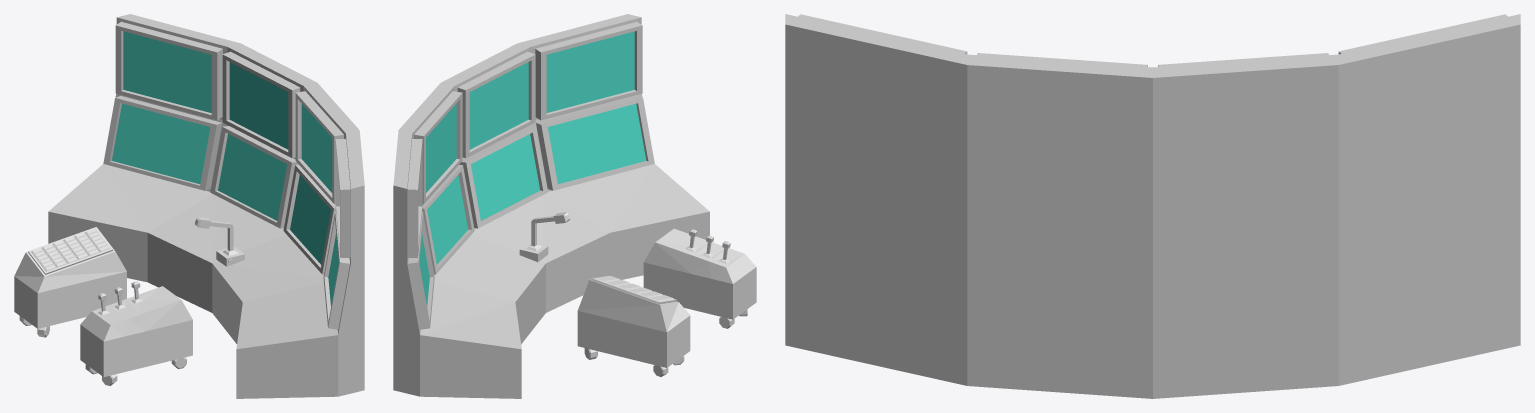
Rendered from centre de controle.dae.
3 views of the same model, side by side, from view 1: azimuth 30°, elevation 25°; view 2: azimuth 150°, elevation 25°; view 3: azimuth 270°, elevation 25° (orthographic). The views are drawn at different scales.
Parts seen in each view (by area): view 1: grosse base, 2 bloc, 1 bloc, Cube.011, 1 roues; view 2: grosse base, 2 bloc, 1 bloc, Cube.011, 2 roues; view 3: grosse base.
Part boxes in pixels (bbox=[...]): grosse base: bbox=[48, 14, 364, 398]; 2 bloc: bbox=[14, 227, 126, 328]; 1 bloc: bbox=[80, 281, 192, 376]; Cube.011: bbox=[194, 217, 244, 266]; 1 roues: bbox=[85, 357, 186, 385]; grosse base: bbox=[393, 14, 709, 398]; 2 bloc: bbox=[577, 276, 690, 367]; 1 bloc: bbox=[643, 228, 756, 319]; Cube.011: bbox=[519, 212, 569, 262]; 2 roues: bbox=[584, 348, 684, 376]; grosse base: bbox=[785, 14, 1520, 398].
Size of the model in its own units: 1.58 by 2.43 by 1.17.
